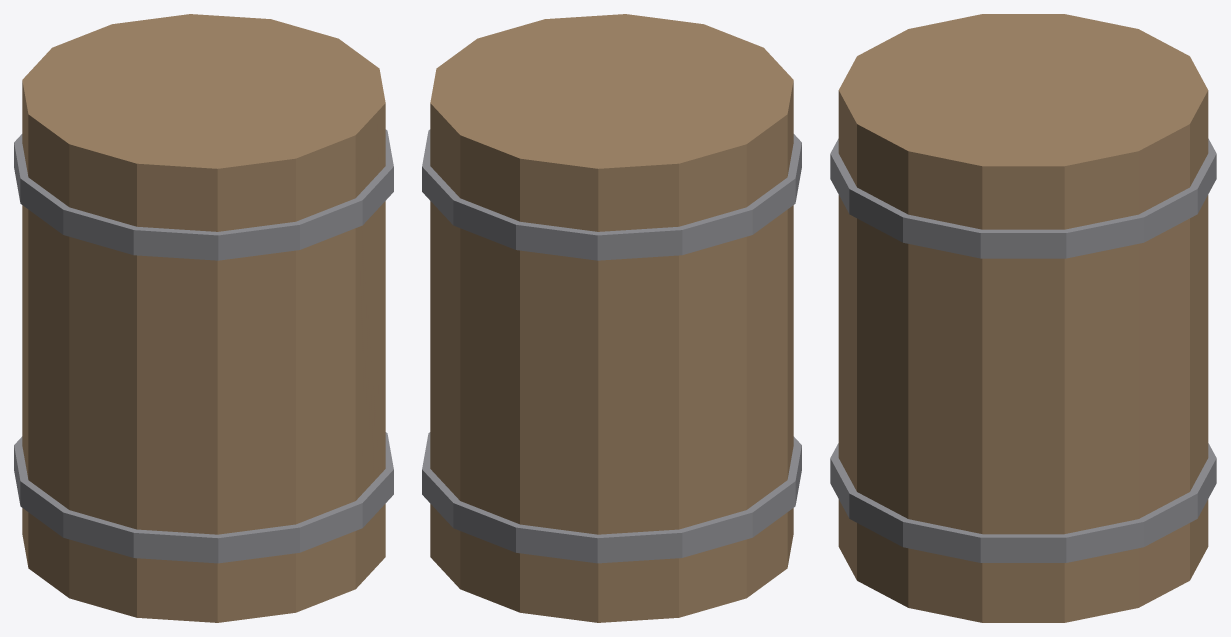
File: Barrel.fbx
3 views of the same model, side by side, from view 1: azimuth 30°, elevation 25°; view 2: azimuth 150°, elevation 25°; view 3: azimuth 270°, elevation 25° (orthographic).
Visible parts, largest first — view 1: Barrel; view 2: Barrel; view 3: Barrel.
Boxes of the visible parts, x1=… form: Barrel: x1=14, y1=14, x2=393, y2=622; Barrel: x1=422, y1=14, x2=801, y2=622; Barrel: x1=830, y1=14, x2=1216, y2=622.
Size of the model in its own units: 0.6727 by 0.69 by 0.9.
